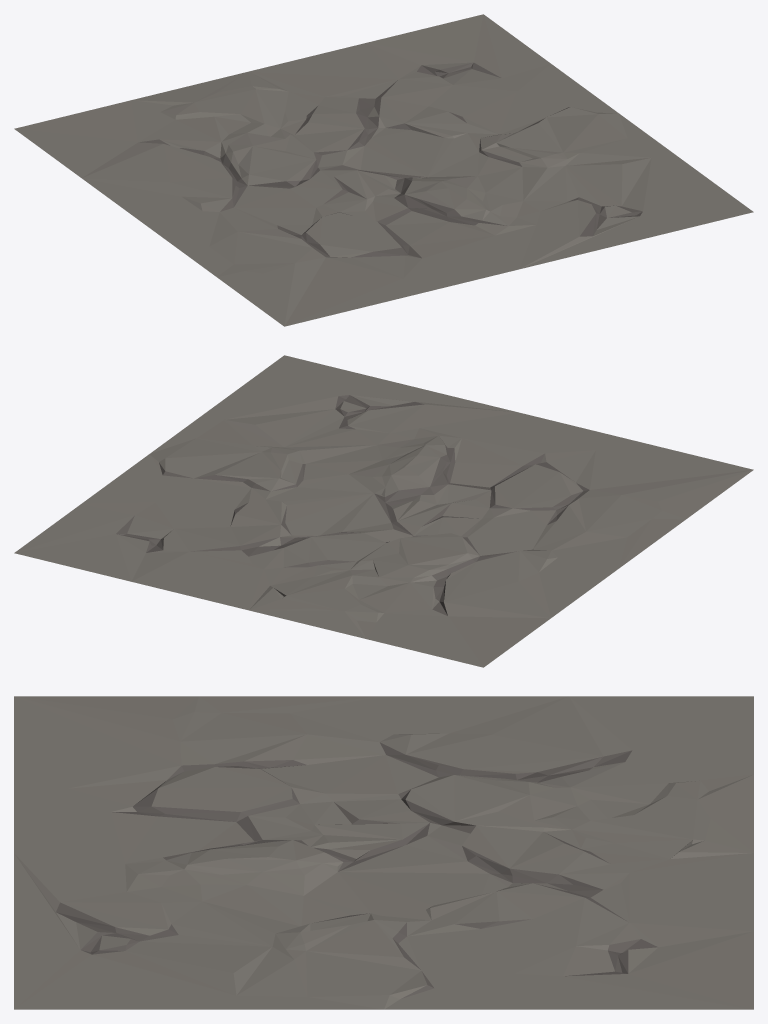
File: SM_Env_CrackedRock_02.FBX
The picture shows the model from 3 angles, top to bottom: view 1: azimuth 30°, elevation 25°; view 2: azimuth 150°, elevation 25°; view 3: azimuth 270°, elevation 25°; orthographic projection. The views are drawn at different scales.
Visible parts, largest first — view 1: SM_Env_CrackedRock_02; view 2: SM_Env_CrackedRock_02; view 3: SM_Env_CrackedRock_02.
Part boxes in pixels (bbox=[...]): SM_Env_CrackedRock_02: bbox=[14, 14, 753, 326]; SM_Env_CrackedRock_02: bbox=[14, 355, 753, 667]; SM_Env_CrackedRock_02: bbox=[14, 696, 753, 1009].
Size of what is drawn, in the model's own units: 1992 by 1987 by 49.94.
